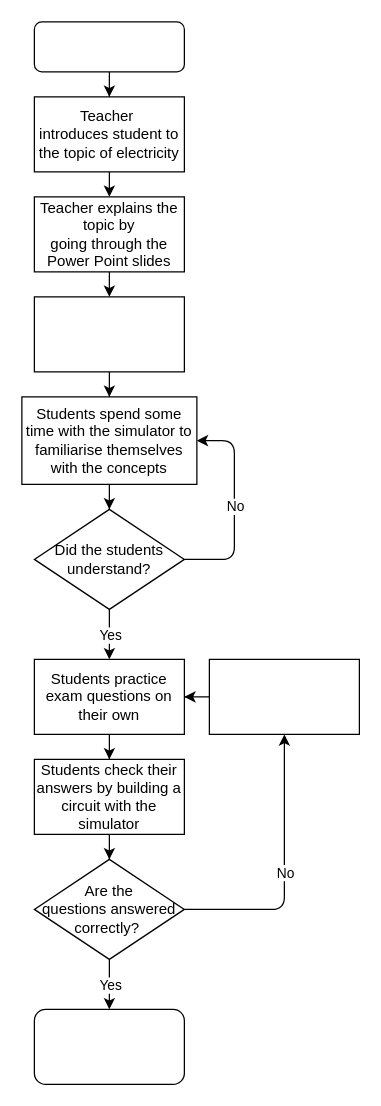
This 381x1106 diagram has some shape labels left out. The centre of each missing label's shape, as x and y in pixels:
End: (108,1046)
Start: (108,46)
Teacher explains the mistakes a student made: (283,696)
Teacher performs an experiment: (108,334)
